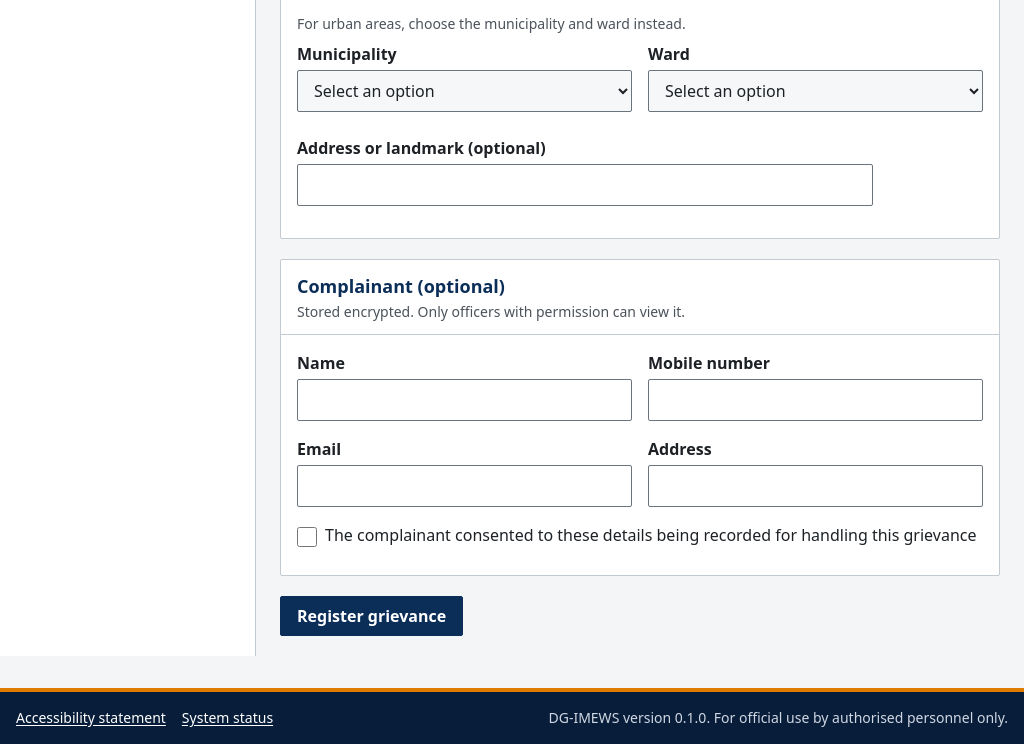
it: Register grievance form › validates required fields and consent before submitting
(page scrolled)
Type "Citizen" into the field labelled "Name". click: (464, 400)
box: top-left (297, 378), bottom-right (632, 420)
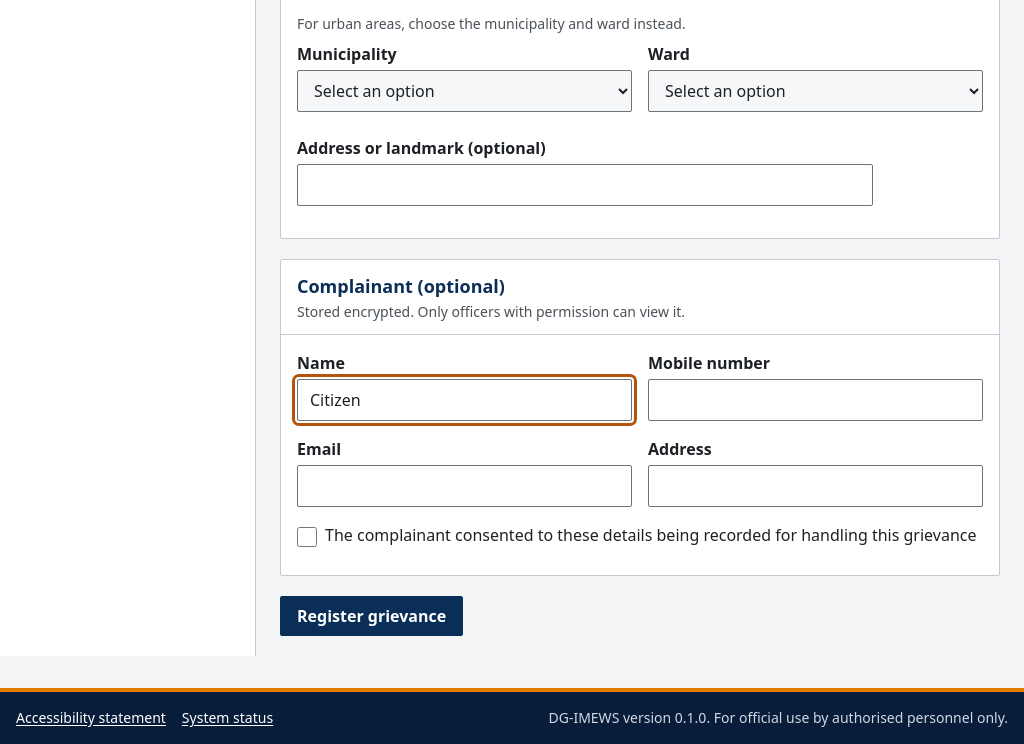
Click the button "Register grievance". click: (372, 616)
box: top-left (280, 596), bottom-right (463, 636)
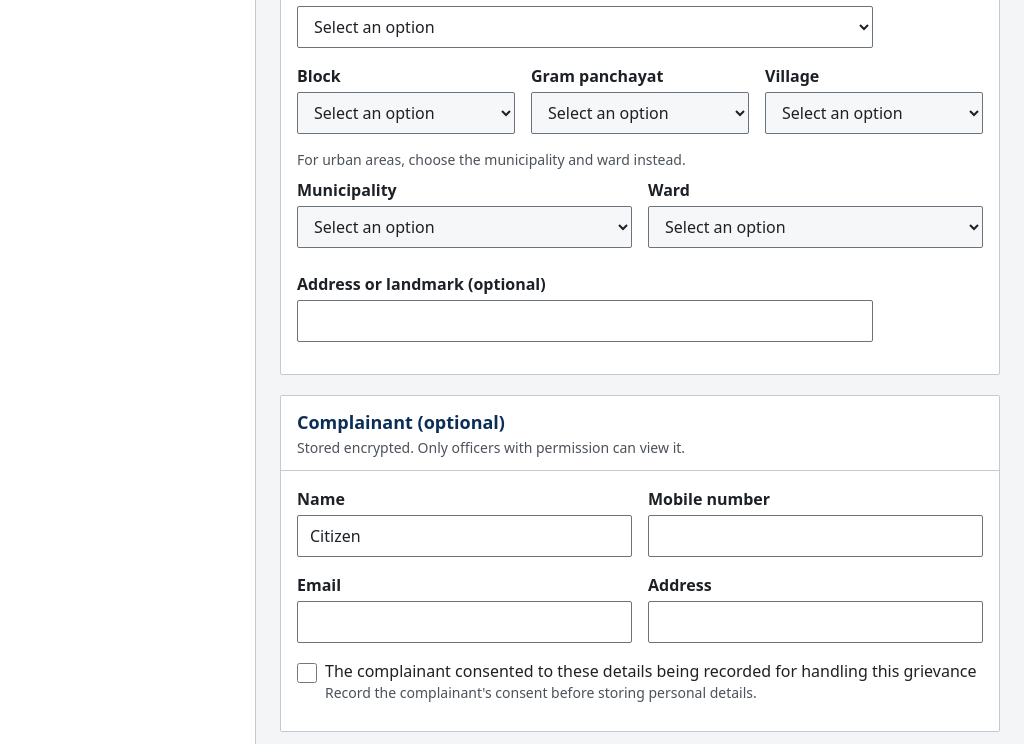
Expected: the text "Record the complainant's consent" is shown, top-left (325, 682), bottom-right (757, 702)
